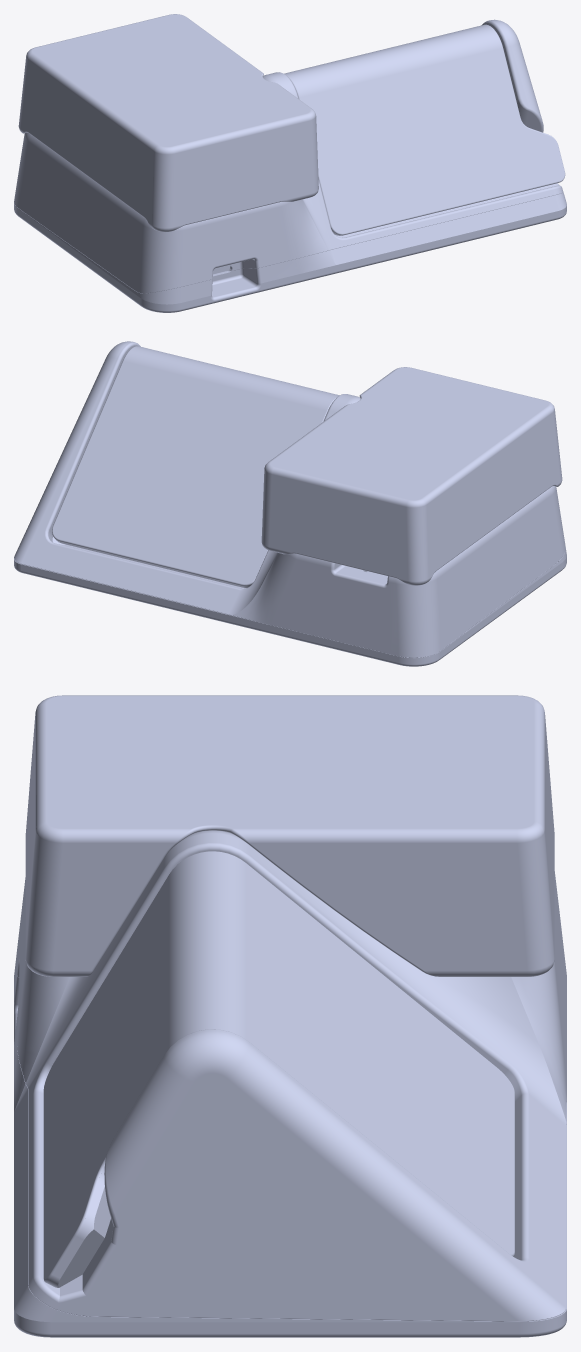
File: sangre.glb
3 renders of one model, top to bottom at view 1: azimuth 30°, elevation 25°; view 2: azimuth 150°, elevation 25°; view 3: azimuth 270°, elevation 25°, orthographic. The views are drawn at different scales.
Parts seen in each view (by area): view 1: 盒子覆盖修复布尔运算版本-1, 生产分件-1, 屏幕2-1; view 2: 盒子覆盖修复布尔运算版本-1, 屏幕2-1, 生产分件-1; view 3: 生产分件-1, 盒子覆盖修复布尔运算版本-1, 屏幕2-1.
Boxes of the visible parts, x1,y1,x2,y2 form: 盒子覆盖修复布尔运算版本-1: (18,14,318,232); 生产分件-1: (14,19,566,312); 屏幕2-1: (284,24,565,235); 盒子覆盖修复布尔运算版本-1: (261,367,562,585); 屏幕2-1: (52,346,339,587); 生产分件-1: (14,341,566,666); 生产分件-1: (14,830,566,1337); 盒子覆盖修复布尔运算版本-1: (25,695,554,976); 屏幕2-1: (43,851,514,1287).
Size of the model in its own units: 0.1586 by 0.0587 by 0.1.
